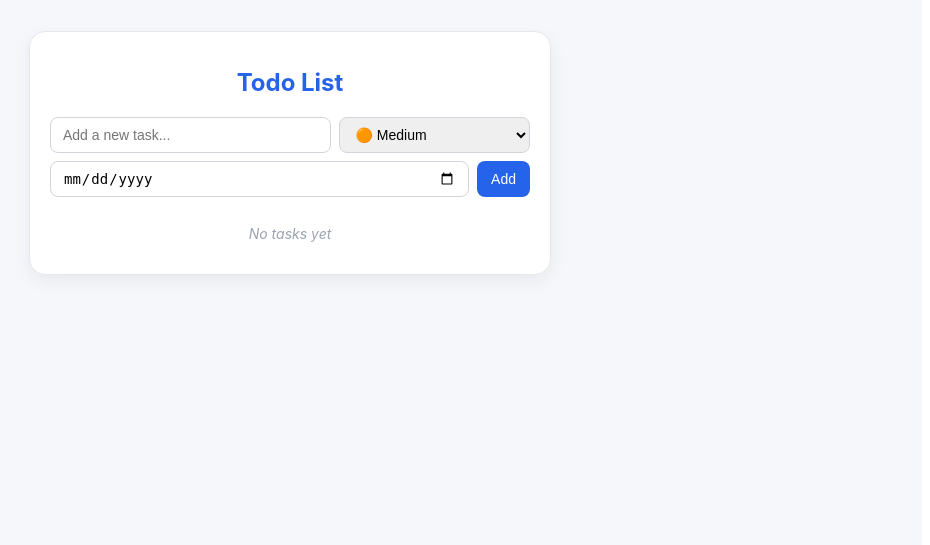
Test: App Component › allows a user to add a new todo
Check: the list item "No tasks yet" is shown, box [249,225,331,242]
Type "New Task to Add" into the field with placeholder "Add a new task...". click: (190, 135)
box: [50,117,330,153]
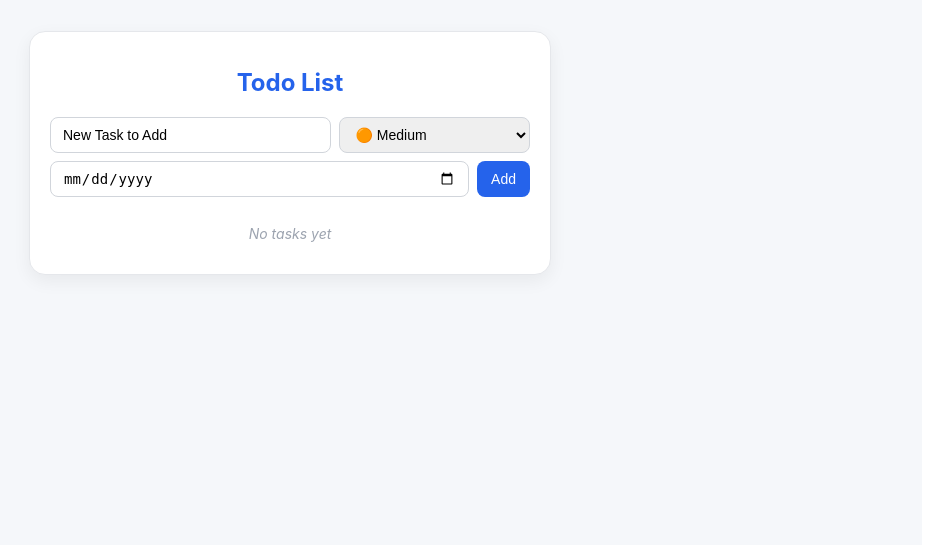
Click the button "Add". click: (504, 179)
box: [477,161,530,197]
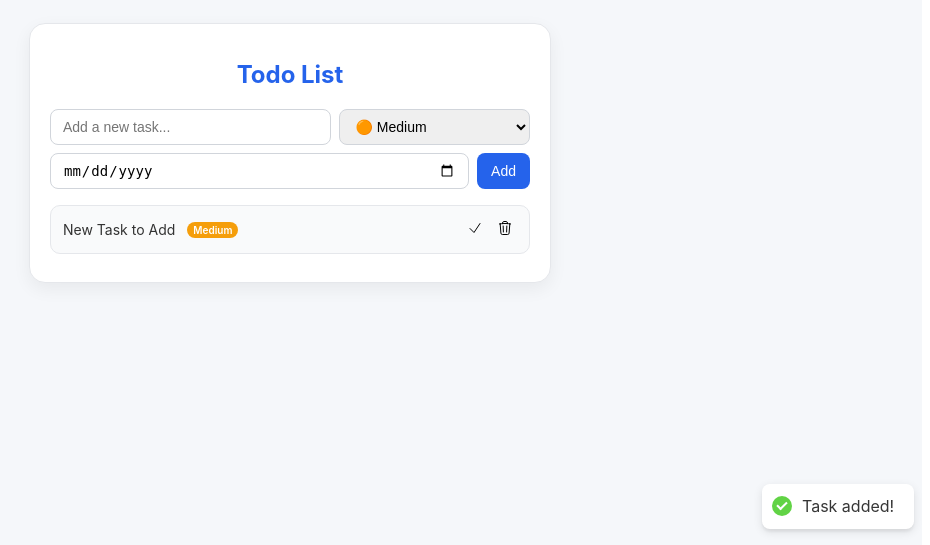
Check: the text "New Task to Add" is shown, box [63,221,175,238]
